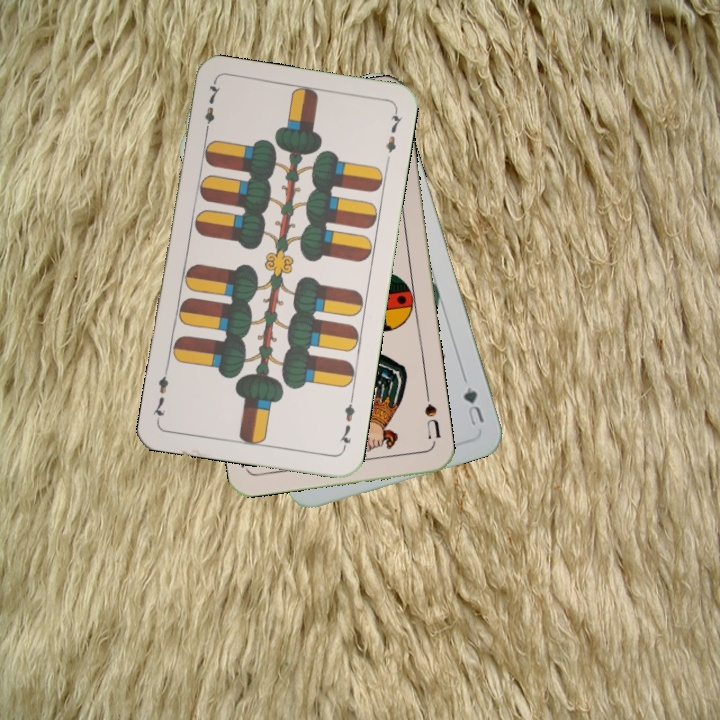E7: (200, 79, 223, 138), (336, 394, 358, 453)
GU: (459, 382, 487, 431)
SU: (421, 388, 443, 441)
